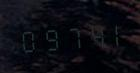four: (81, 19, 101, 50)
nine: (39, 22, 59, 53)
one: (102, 17, 122, 49)
seven: (60, 20, 80, 52)
zero: (18, 23, 38, 55)
